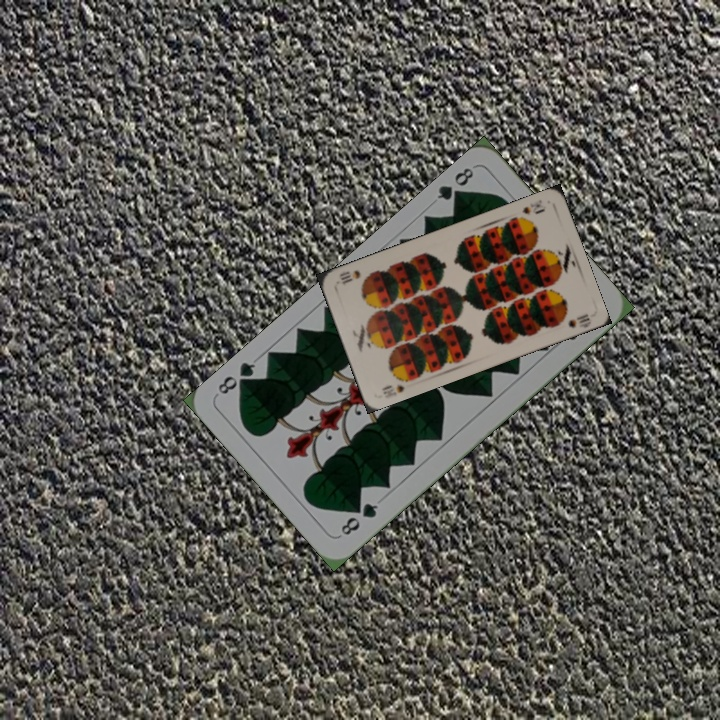G8: (432, 163, 477, 207), (336, 498, 381, 538)
S10: (378, 373, 414, 401), (518, 195, 544, 217)
